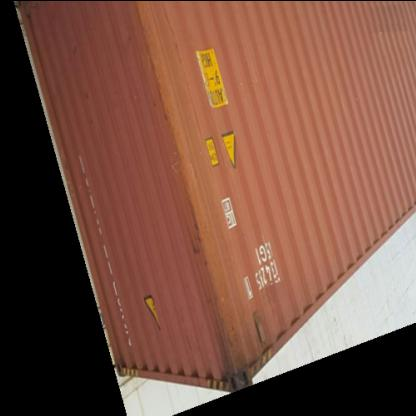Damage: (188, 247, 252, 385), (134, 5, 192, 134), (168, 112, 218, 258)
